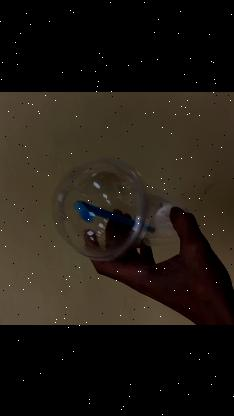Others: (54, 156, 180, 256)
